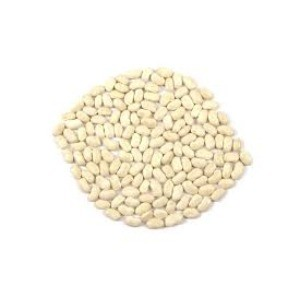beans_brain food: (83, 113, 221, 181)
